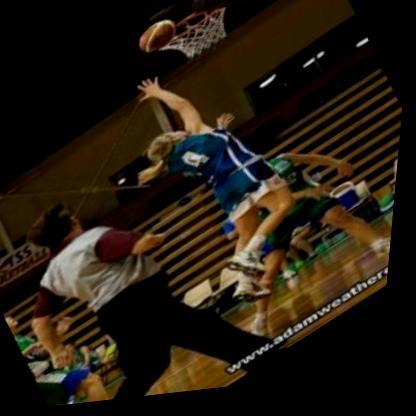basketball: (128, 13, 185, 66)
